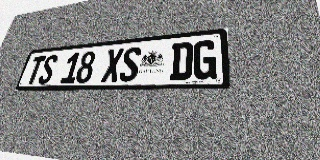1: (60, 52, 82, 84)
8: (74, 51, 97, 83)
D: (169, 42, 193, 80)
G: (192, 39, 216, 80)
S: (118, 46, 142, 82), (37, 54, 59, 84)
T: (25, 56, 46, 85)
X: (101, 48, 124, 82)
